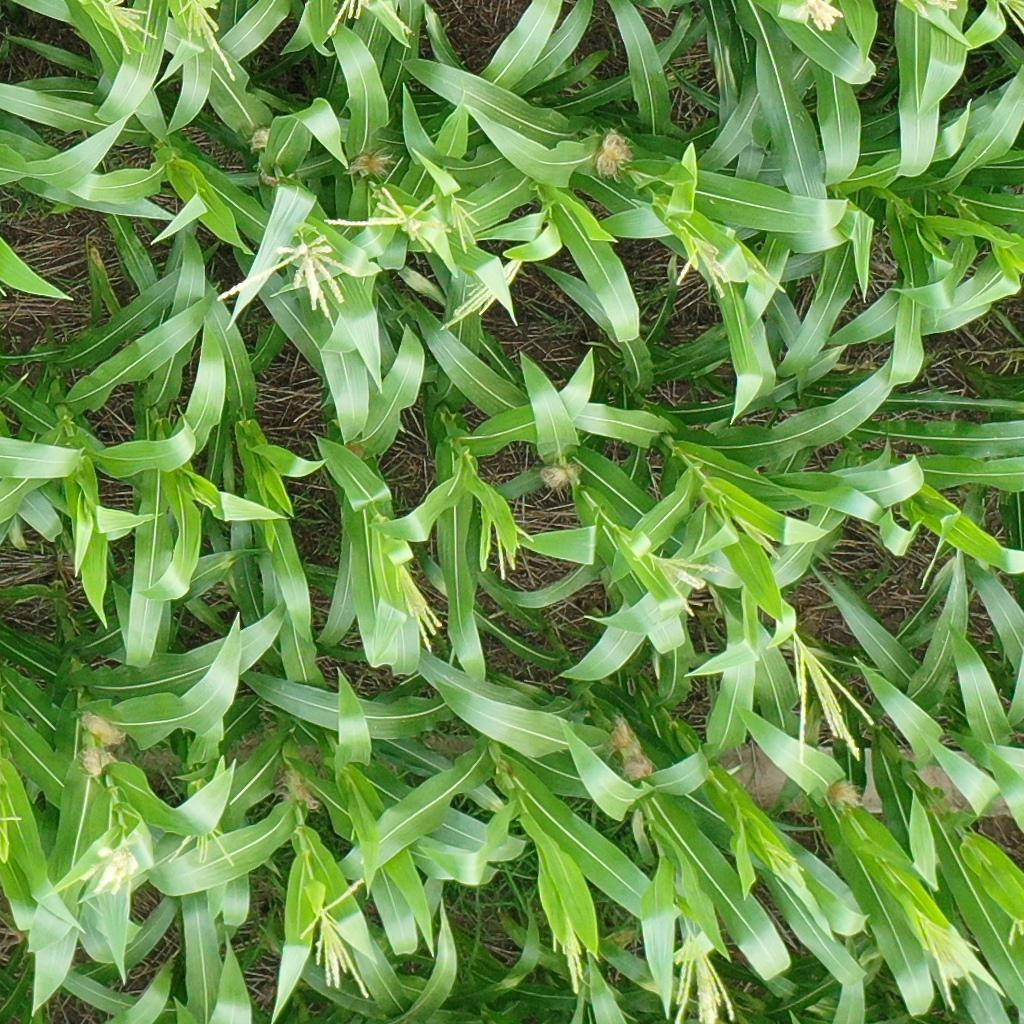Tassel: (214, 231, 359, 318), (788, 632, 874, 768), (301, 878, 376, 1001), (324, 185, 452, 251), (668, 926, 738, 1024), (916, 914, 981, 1014), (441, 257, 524, 335), (177, 1, 239, 83), (648, 549, 721, 617), (392, 564, 445, 656), (81, 835, 143, 896), (168, 824, 238, 873), (99, 1, 160, 55), (675, 238, 732, 294), (549, 911, 586, 997), (327, 1, 410, 36), (490, 521, 536, 582), (738, 515, 781, 562), (449, 195, 481, 254), (768, 843, 807, 889), (792, 1, 845, 32), (910, 1, 960, 22), (993, 1, 1024, 34), (1005, 914, 1024, 947)
